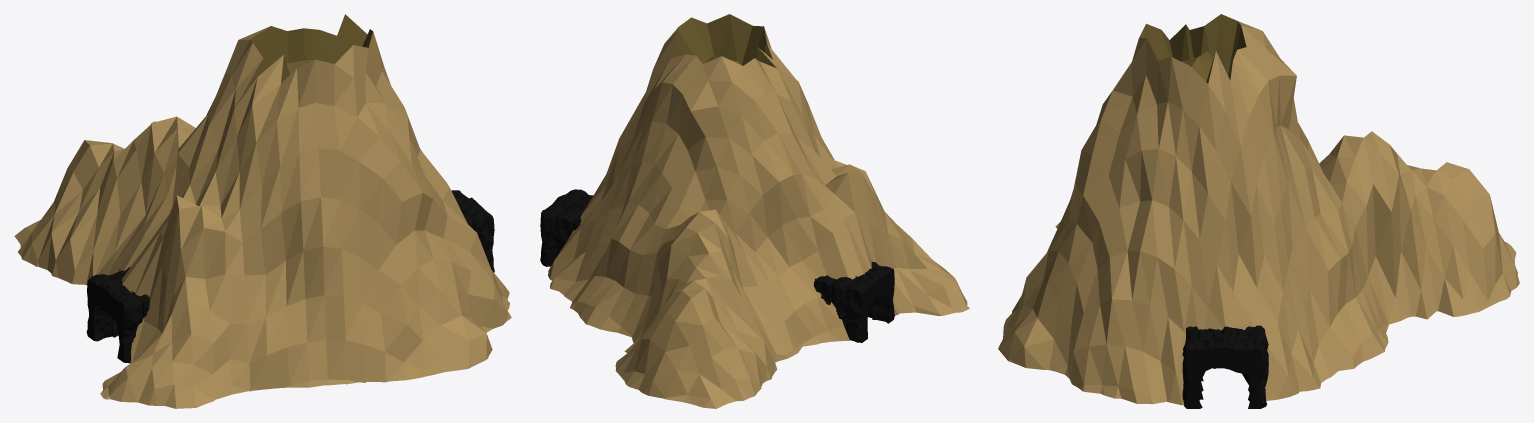
The model's file is Mountain_Tunnel.FBX.
3 views of the same model, side by side, from view 1: azimuth 30°, elevation 25°; view 2: azimuth 150°, elevation 25°; view 3: azimuth 270°, elevation 25° (orthographic). The views are drawn at different scales.
Parts seen in each view (by area): view 1: Mountain_Dirt_Crater_01, Ground052, Ground131; view 2: Mountain_Dirt_Crater_01, Ground052, Ground131, Ground130, Ground054, Ground114; view 3: Mountain_Dirt_Crater_01, Ground131, Ground130.
Boxes of the visible parts, x1,y1,x2,y2 form: Mountain_Dirt_Crater_01: (14, 14, 511, 408); Ground052: (86, 274, 142, 363); Ground131: (451, 190, 494, 272); Mountain_Dirt_Crater_01: (548, 14, 969, 408); Ground052: (845, 265, 894, 342); Ground131: (540, 189, 587, 266); Ground130: (555, 194, 593, 257); Ground054: (831, 261, 878, 330); Ground114: (813, 275, 836, 304); Mountain_Dirt_Crater_01: (998, 14, 1519, 405); Ground131: (1182, 337, 1268, 408); Ground130: (1182, 326, 1268, 399).
Bounding box in the file's own units: 3278 × 3418 × 2102.
